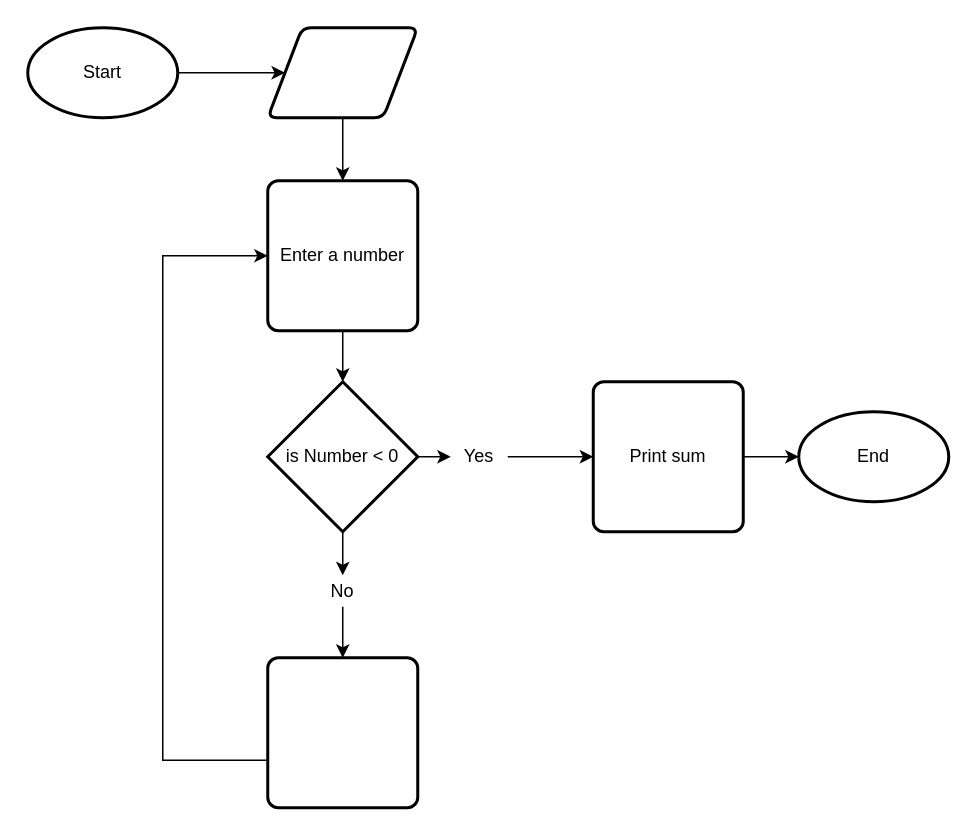
The diagram is 975 pixels wide and 834 high, and some of its shapes have lost their labels. The shapes that lost their labels are listed below. From the top down, each one's centre as x and y in pixels, then its label:
At [342,72]: "sum = 0".
At [342,732]: "sum = sum + number".
